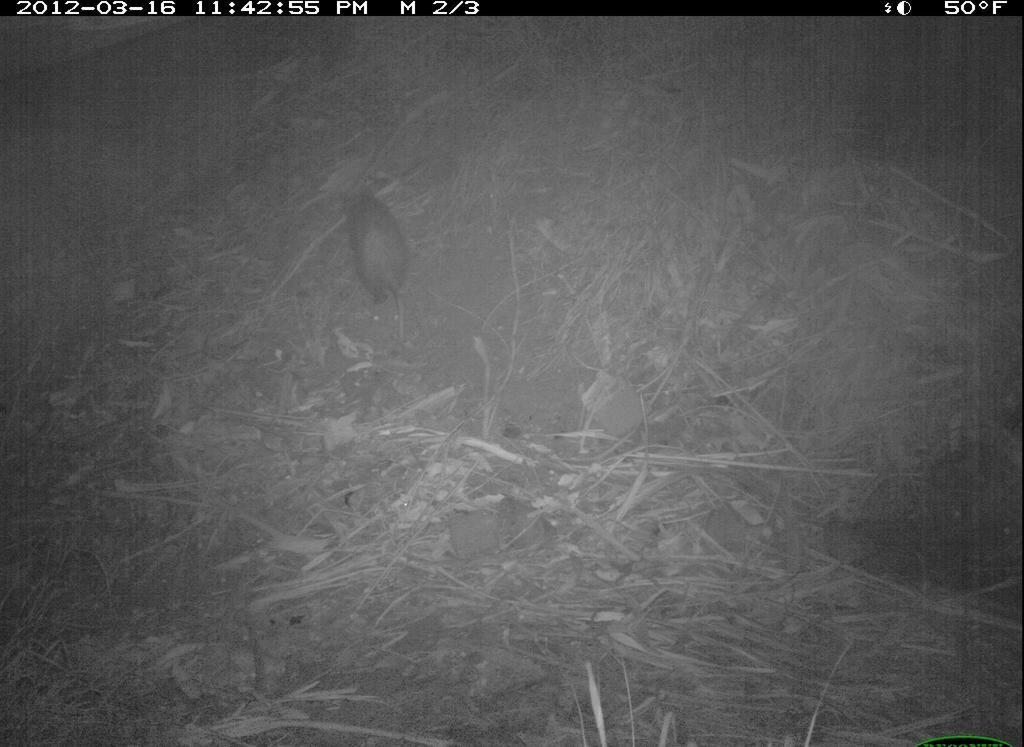opossum: (319, 164, 436, 321)
